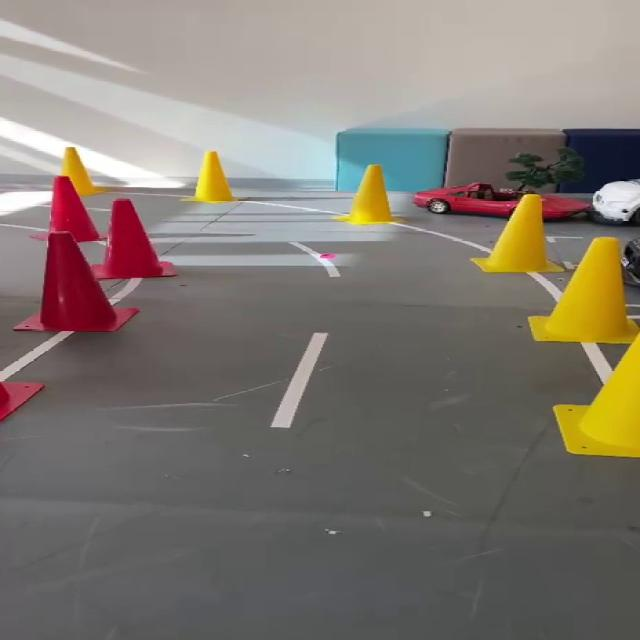Cone-red: (15, 232, 138, 331), (92, 198, 175, 279), (50, 175, 99, 242)
Cones-yellow: (528, 238, 639, 344), (553, 335, 639, 458), (473, 195, 561, 272), (335, 165, 394, 225), (61, 148, 108, 196), (190, 151, 233, 203)
